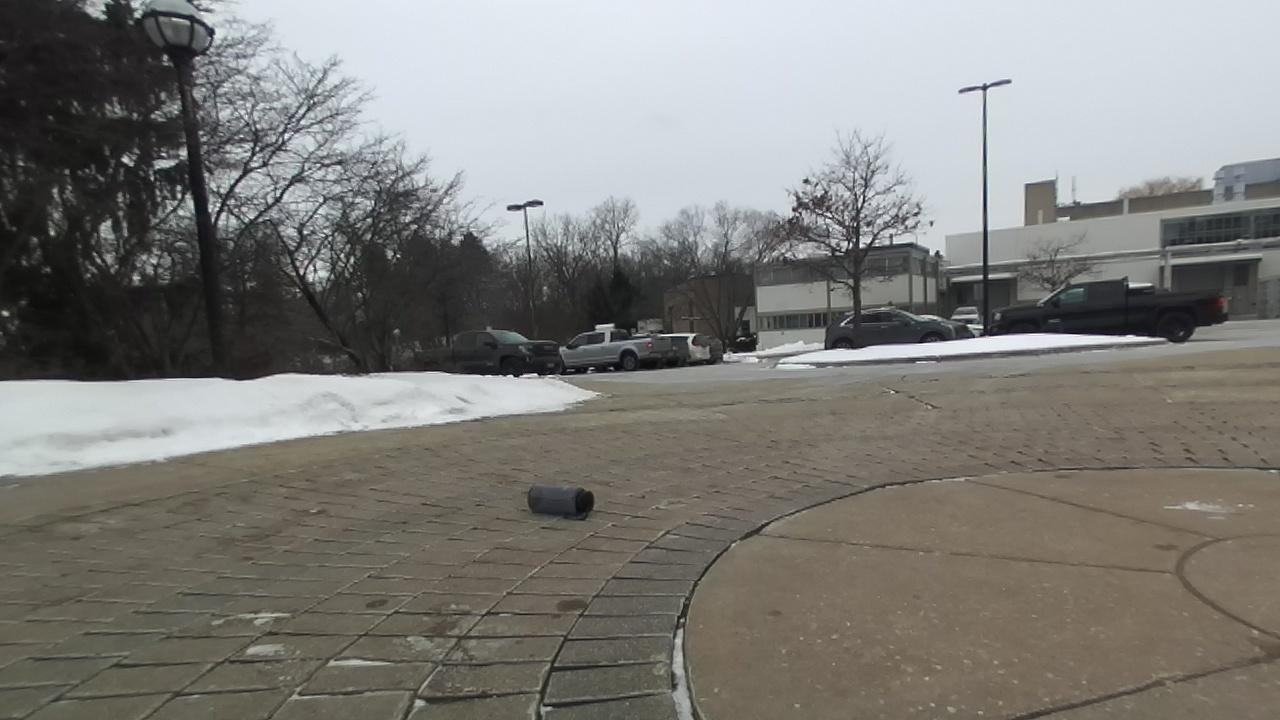bottle: (527, 485, 593, 518)
